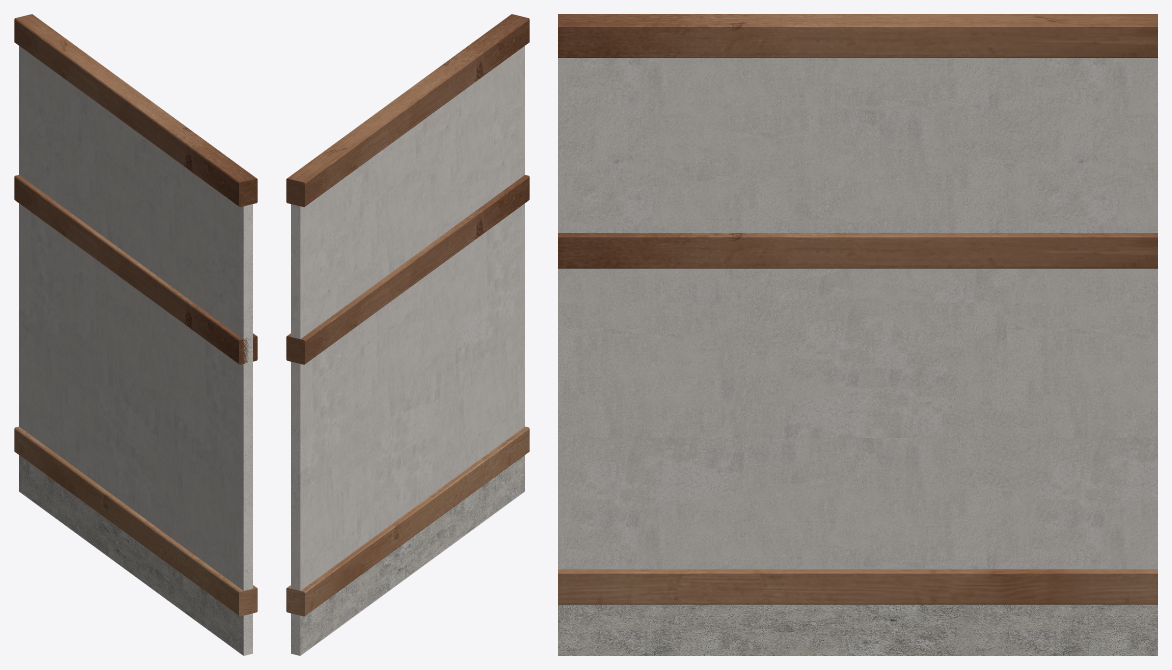
File: SM_JSH_WallB.fbx
The picture shows the model from 3 angles, left to right: view 1: azimuth 30°, elevation 25°; view 2: azimuth 150°, elevation 25°; view 3: azimuth 270°, elevation 25°; orthographic projection. The views are drawn at different scales.
Parts seen in each view (by area): view 1: SM_JSH_WallB; view 2: SM_JSH_WallB; view 3: SM_JSH_WallB.
Boxes of the visible parts, <box> form: SM_JSH_WallB: <box>14,14,257,655</box>; SM_JSH_WallB: <box>286,14,529,655</box>; SM_JSH_WallB: <box>558,14,1157,655</box>.
Bounding box in the file's own units: 11.79 × 245 × 285.
1 material, 1 textured.
